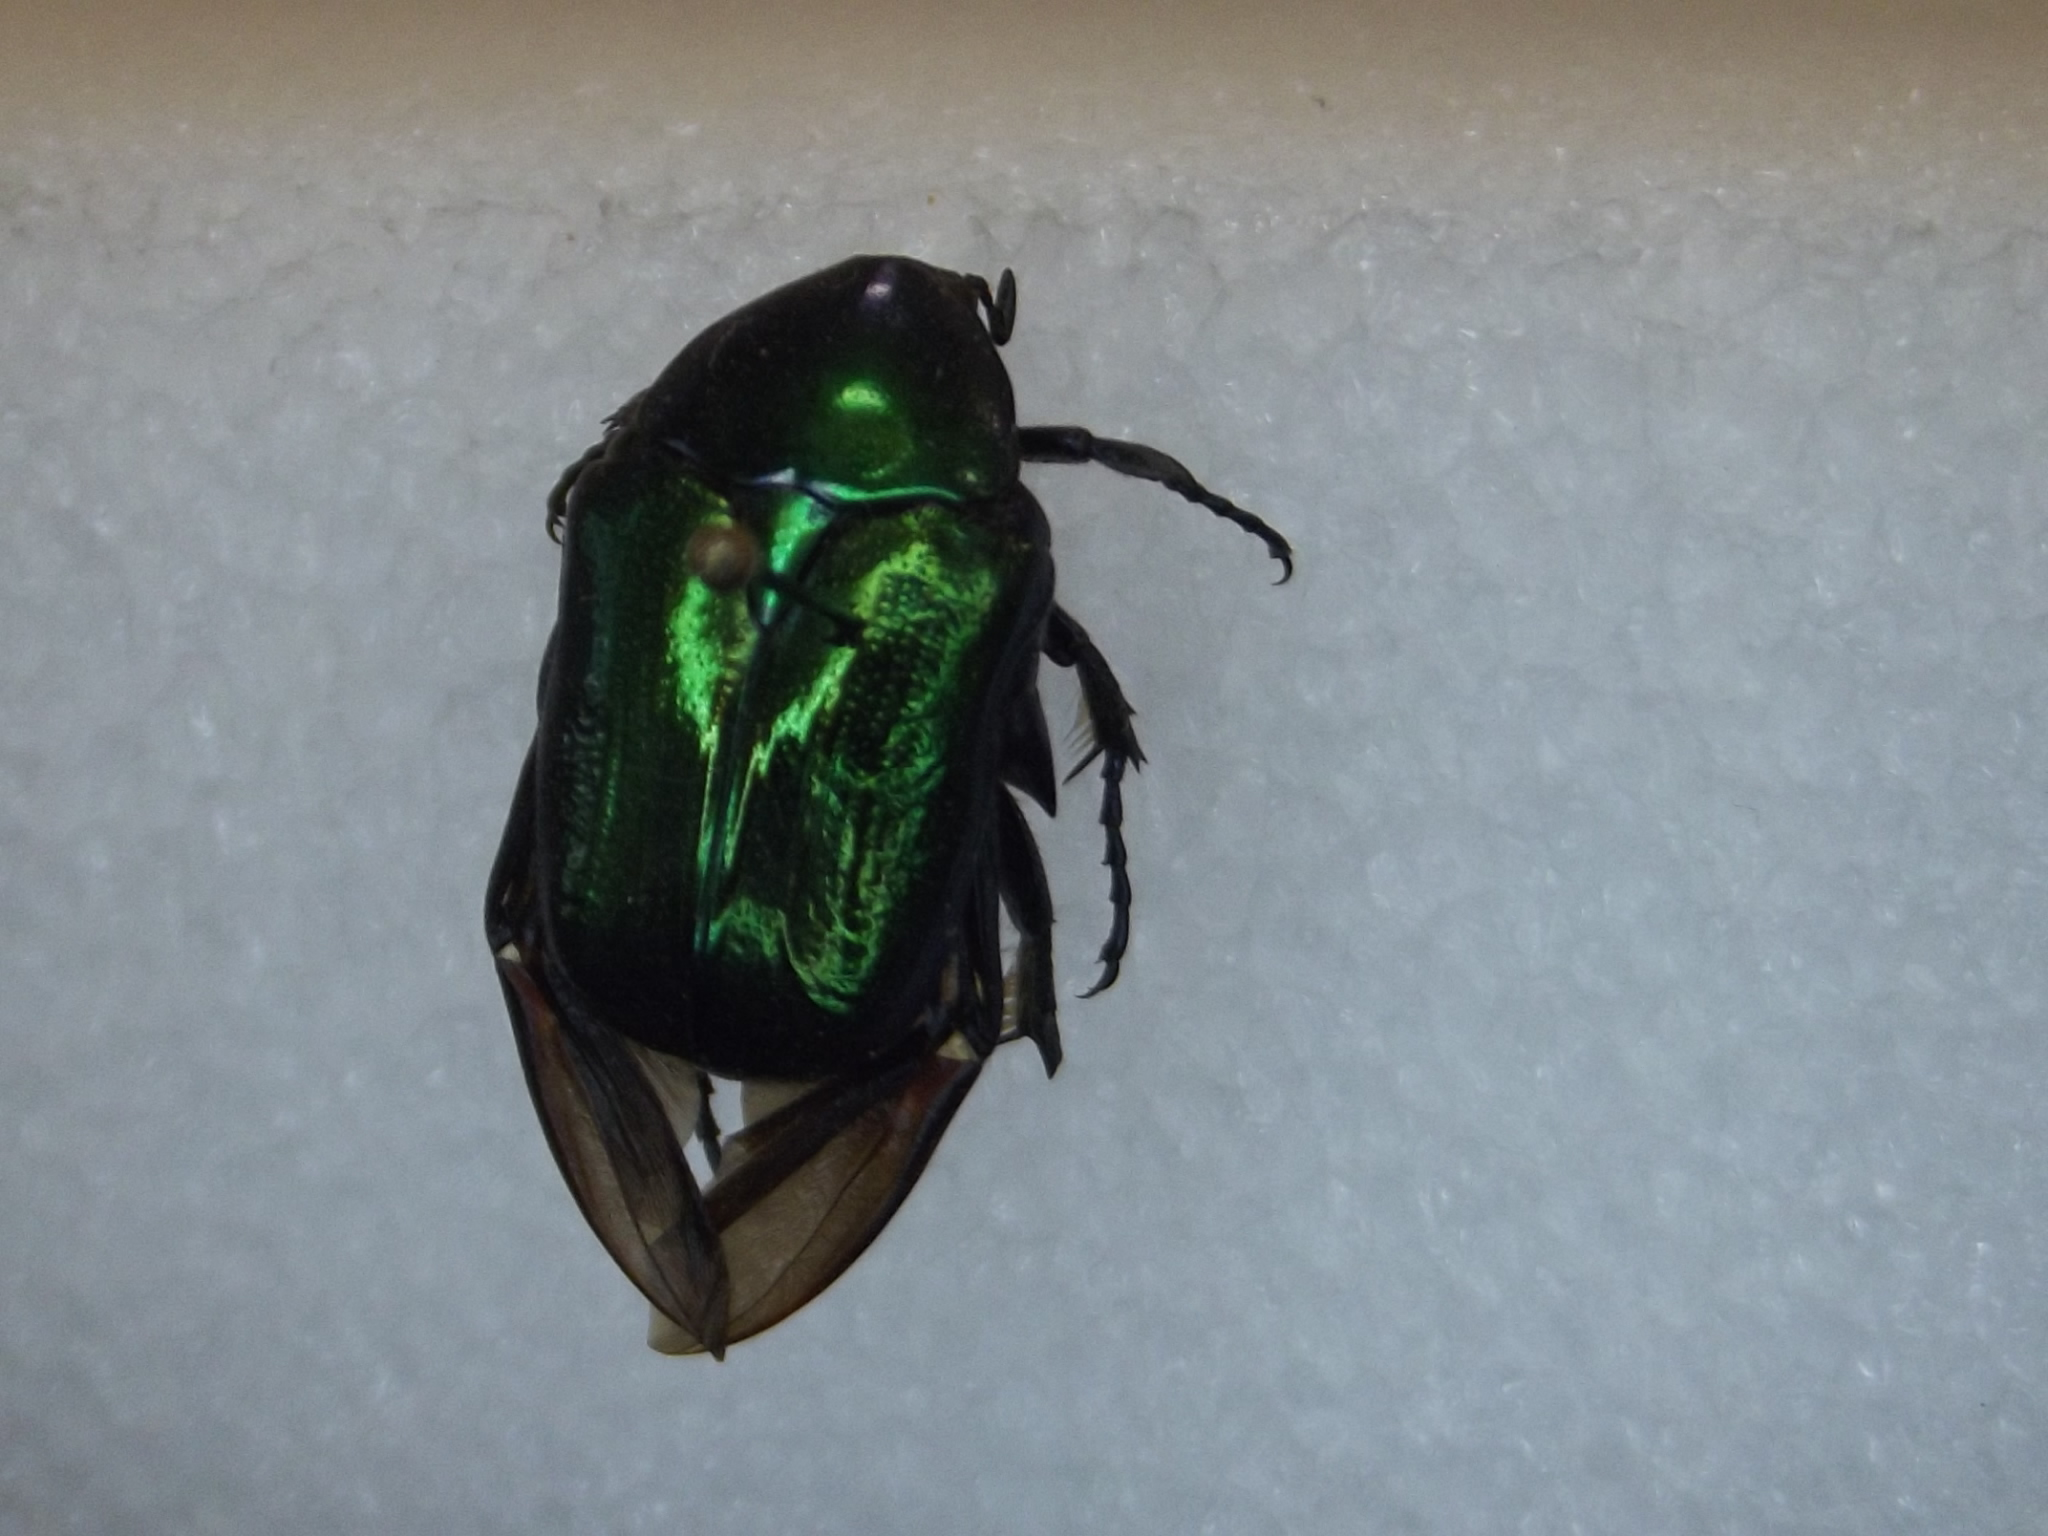Protaetia_angustata_angustata: (485, 245, 1293, 1063)
